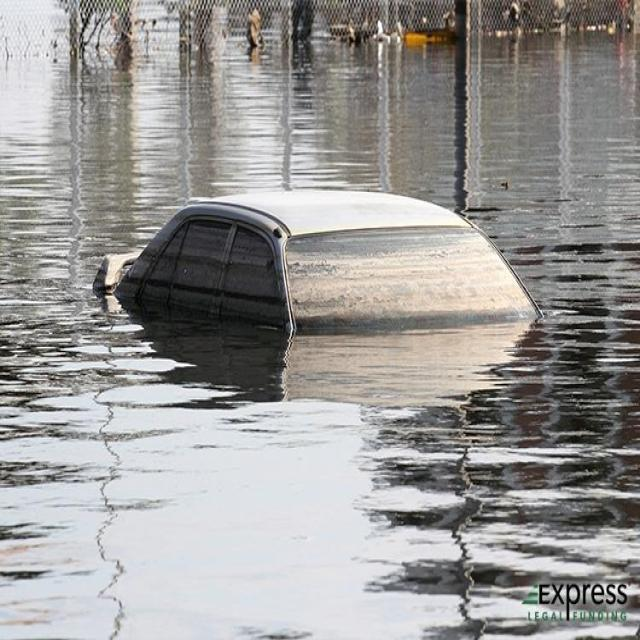water: (0, 30, 639, 638)
